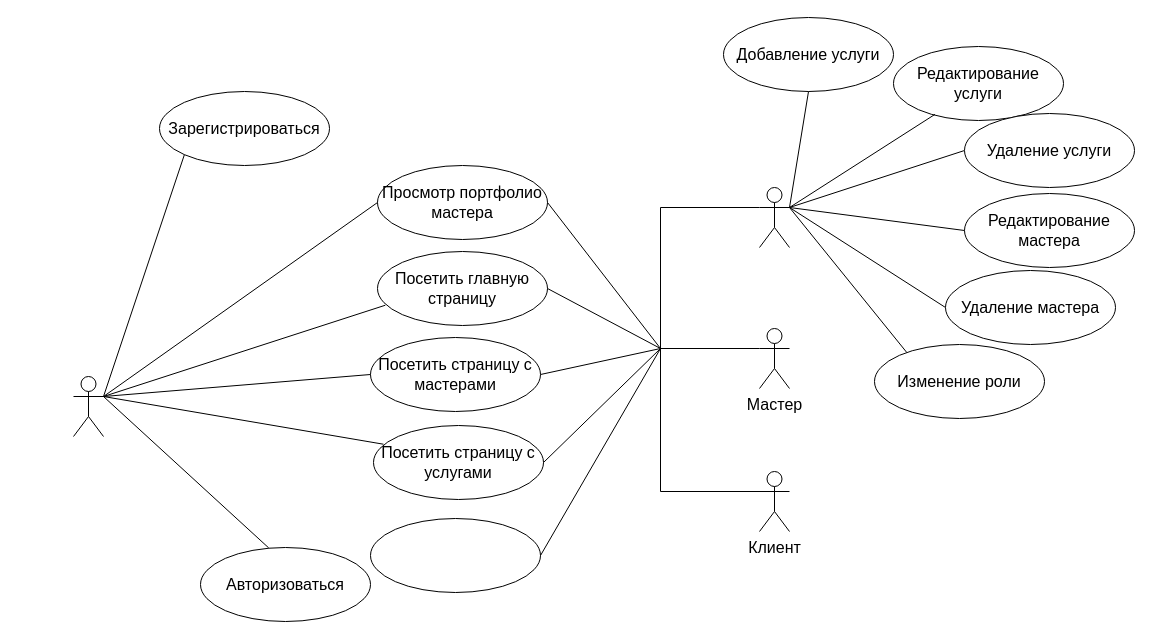
Image size: 1152x639. Some labels were removed from this diagram. Here are the shapes that lost their labels. From the top down, the centre of each, then its label:
point 774,217: Администратор
point 88,406: Неавторизованный пользователь
point 455,555: Записаться на услугу
